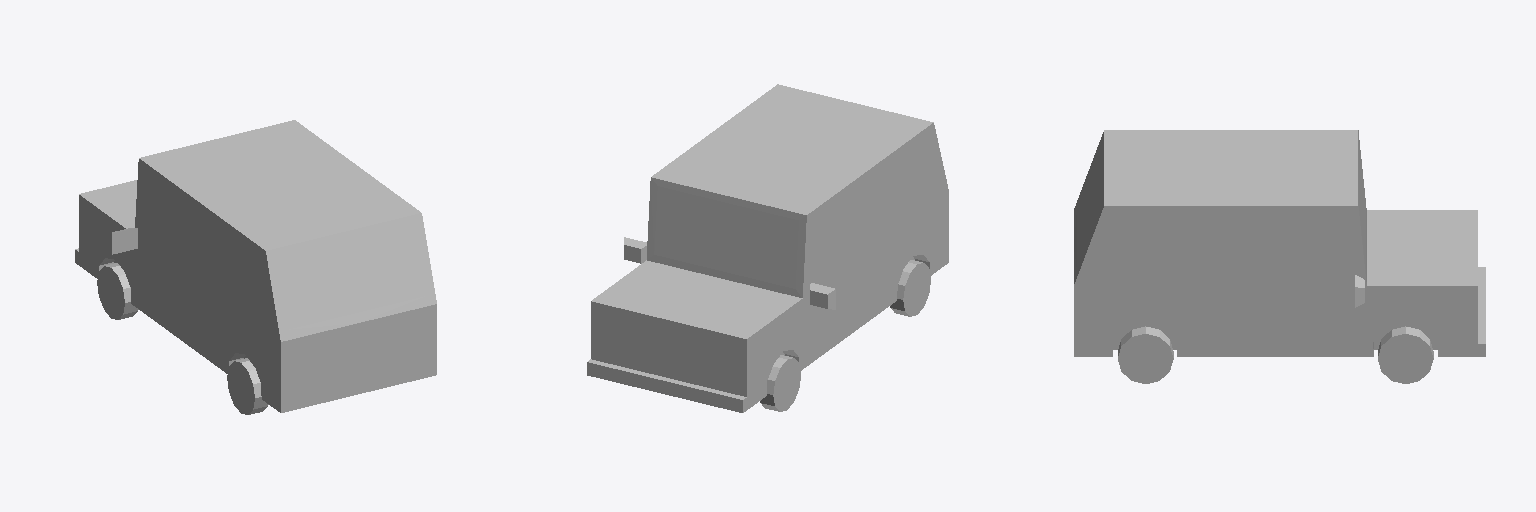
Rendered from car_01.obj.
3 renders of one model, left to right at view 1: azimuth 30°, elevation 25°; view 2: azimuth 150°, elevation 25°; view 3: azimuth 270°, elevation 25°, orthographic.
Parts seen in each view (by area): view 1: car_seperate_mesh; view 2: car_seperate_mesh; view 3: car_seperate_mesh.
Part boxes in pixels (x1,y1,x2,y2): car_seperate_mesh: (75,120,436,414); car_seperate_mesh: (587,84,948,412); car_seperate_mesh: (1074,130,1485,383).
Size of the model in its own units: 3.16 by 2.52 by 5.32.